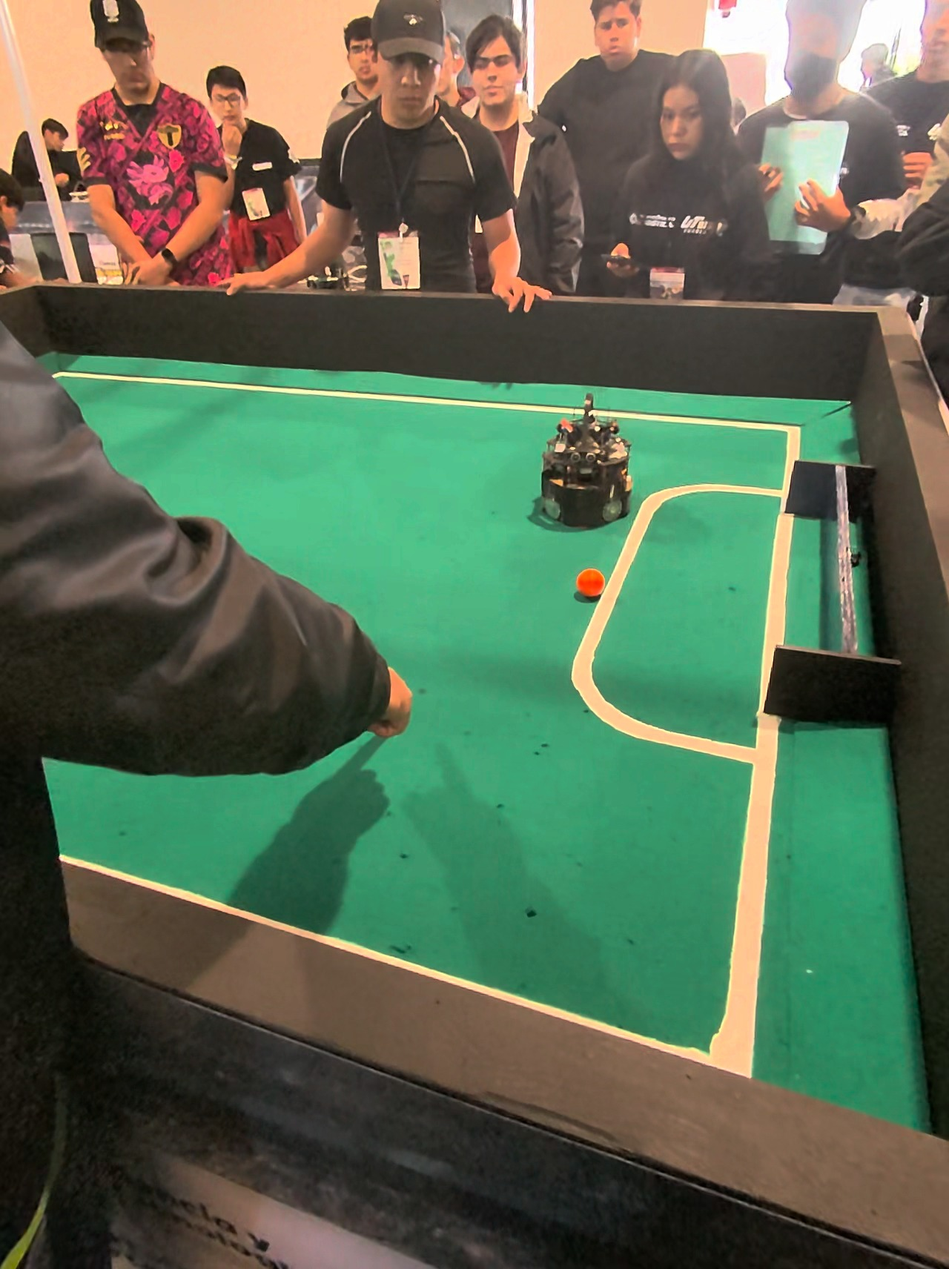Robot: (533, 401, 644, 528)
